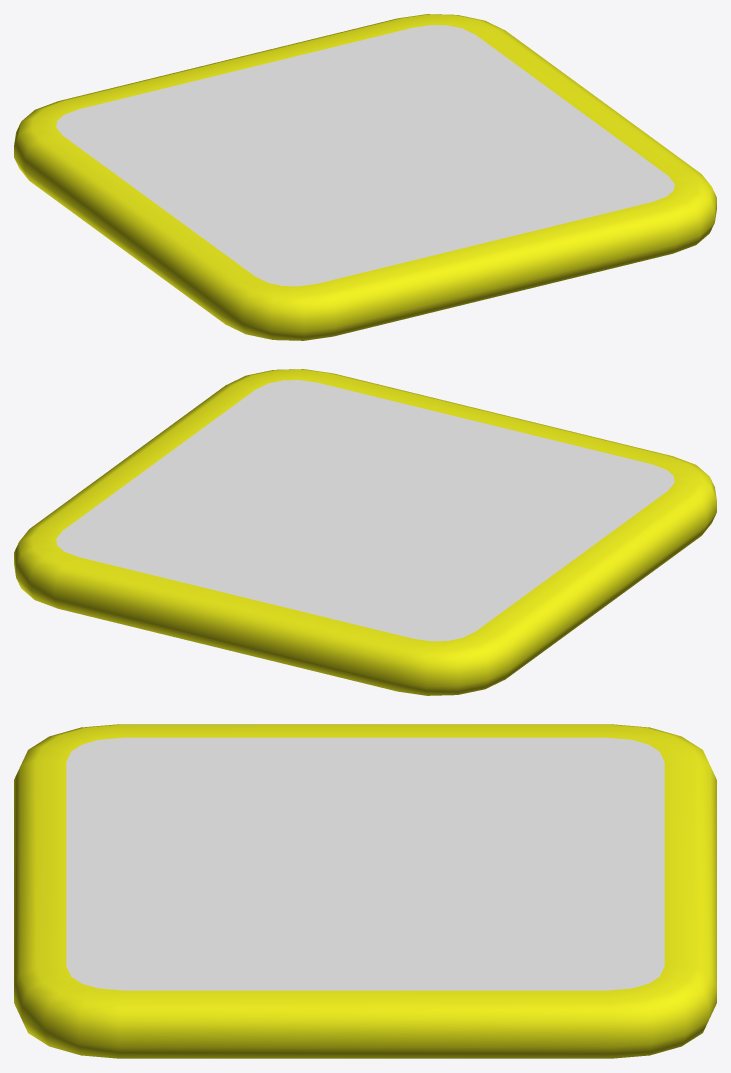
The model's file is Cell.fbx.
The picture shows the model from 3 angles, top to bottom: view 1: azimuth 30°, elevation 25°; view 2: azimuth 150°, elevation 25°; view 3: azimuth 270°, elevation 25°; orthographic projection. The views are drawn at different scales.
Parts seen in each view (by area): view 1: Cube.010; view 2: Cube.010; view 3: Cube.010.
Boxes of the visible parts, <box> form: Cube.010: <box>14,14,716,340</box>; Cube.010: <box>14,369,716,695</box>; Cube.010: <box>14,724,716,1058</box>.
Size of the model in its own units: 99.98 by 8.57 by 99.98.
2 materials, 1 textured.
